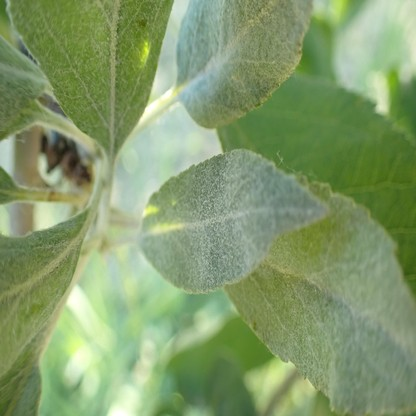powdery_mildew: (227, 180, 414, 413), (0, 0, 173, 157), (142, 150, 331, 290), (0, 214, 90, 416), (177, 1, 316, 126)
